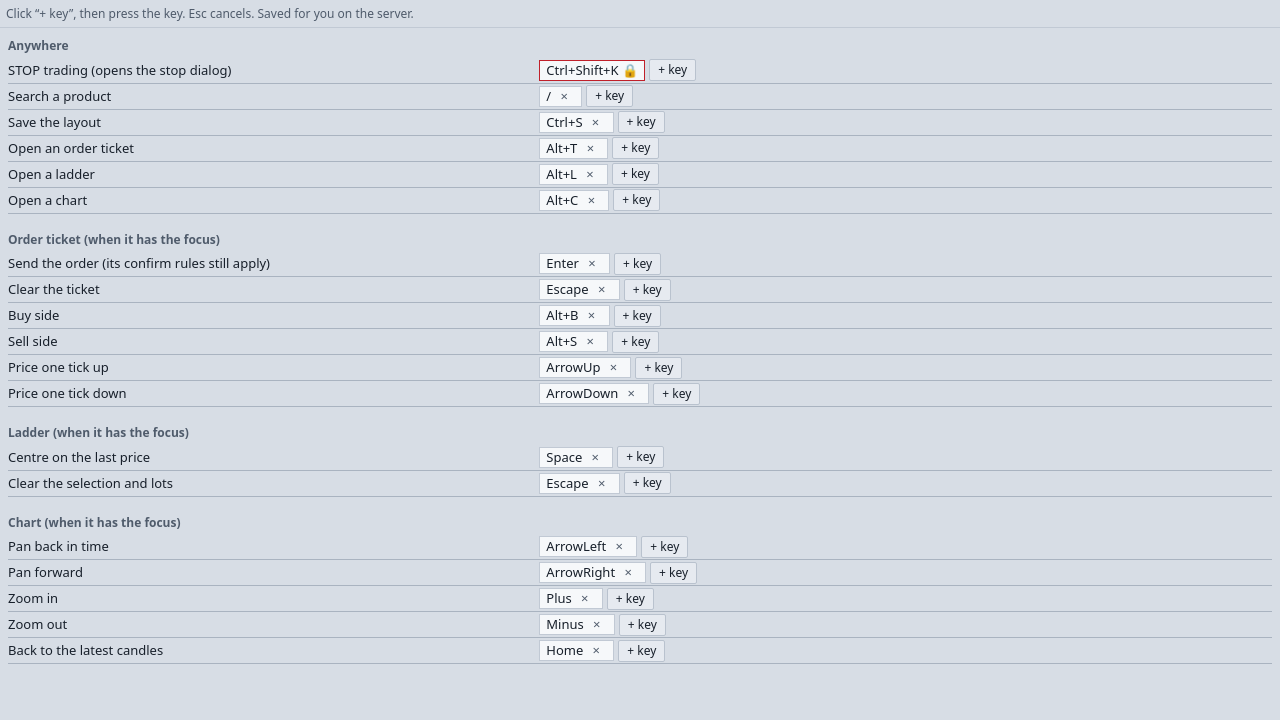
Test case: Keyboard shortcuts editor › Escape cancels choosing; a refused save keeps the old keys and says why
Click the button with aria-label "Add a key to Open a chart" at (637, 200), box x1=613 y1=189 x2=660 y2=211
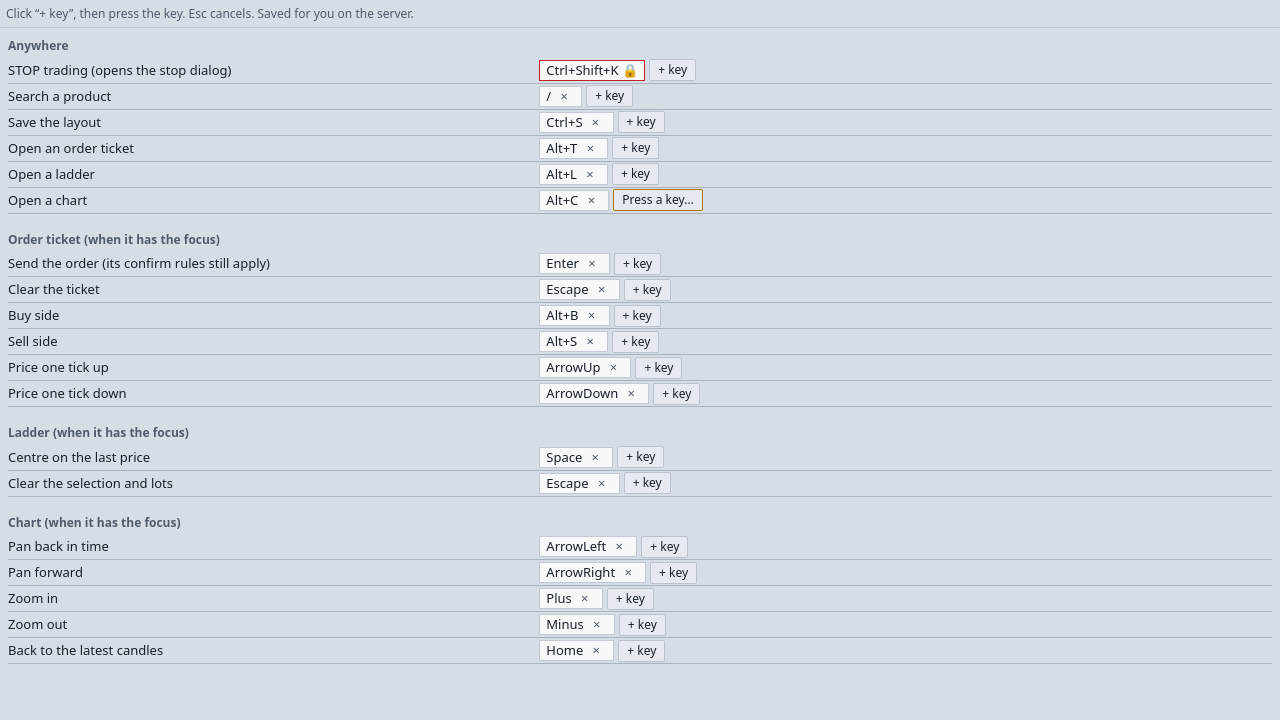
Press Escape in the button "Press a key…", box x1=613 y1=189 x2=703 y2=211
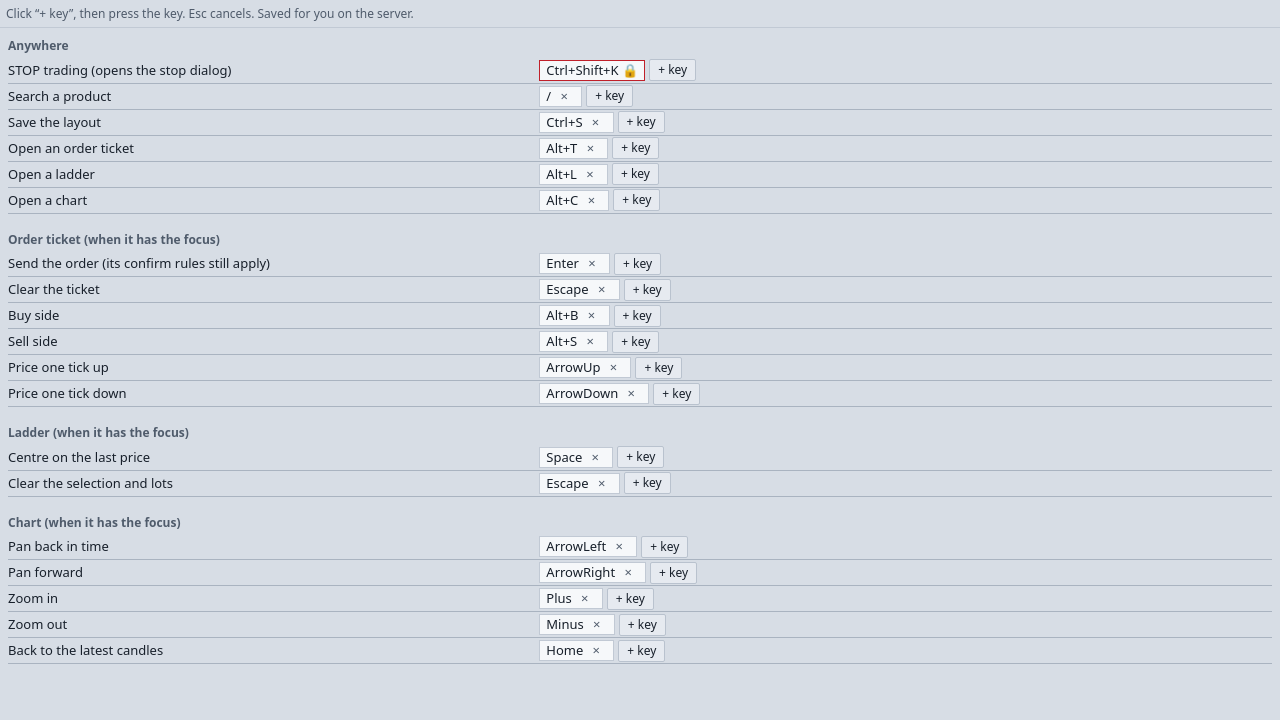
Expected: the button "Press a key…" is gone
Click the button with aria-label "Add a key to Open a chart" at (637, 200), box x1=613 y1=189 x2=660 y2=211
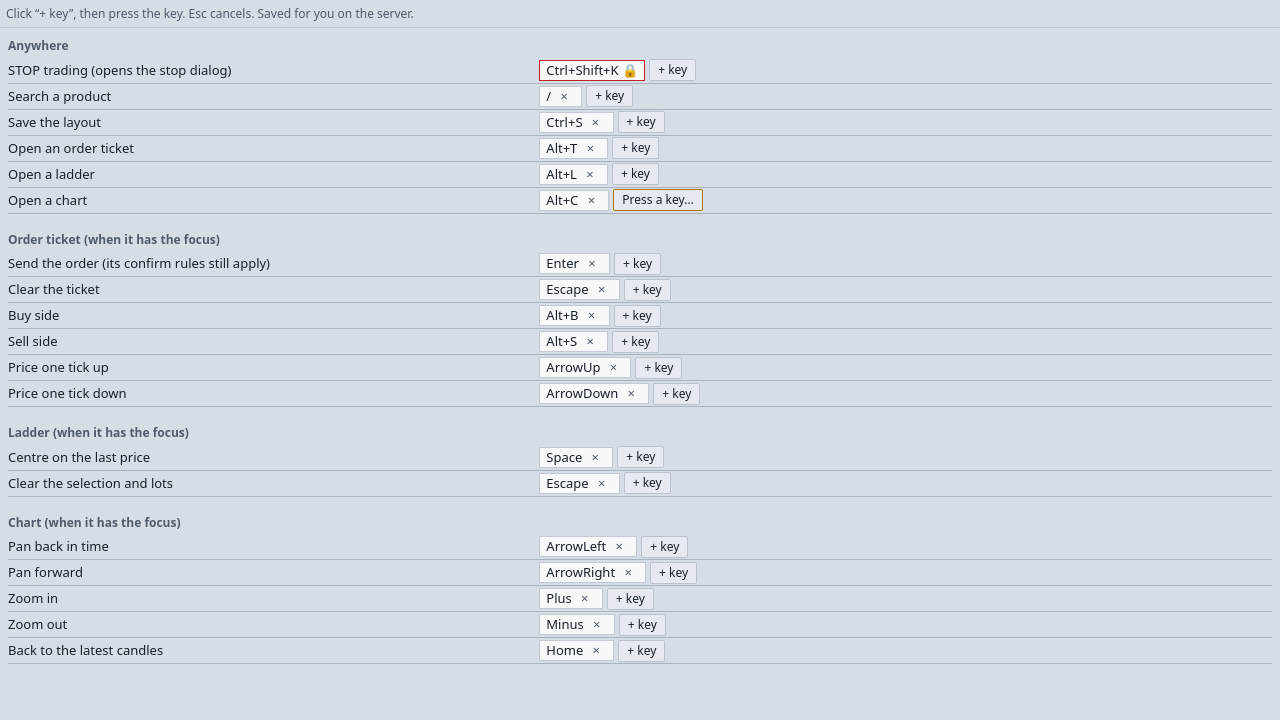
Press F2 in the button "Press a key…", box x1=613 y1=189 x2=703 y2=211
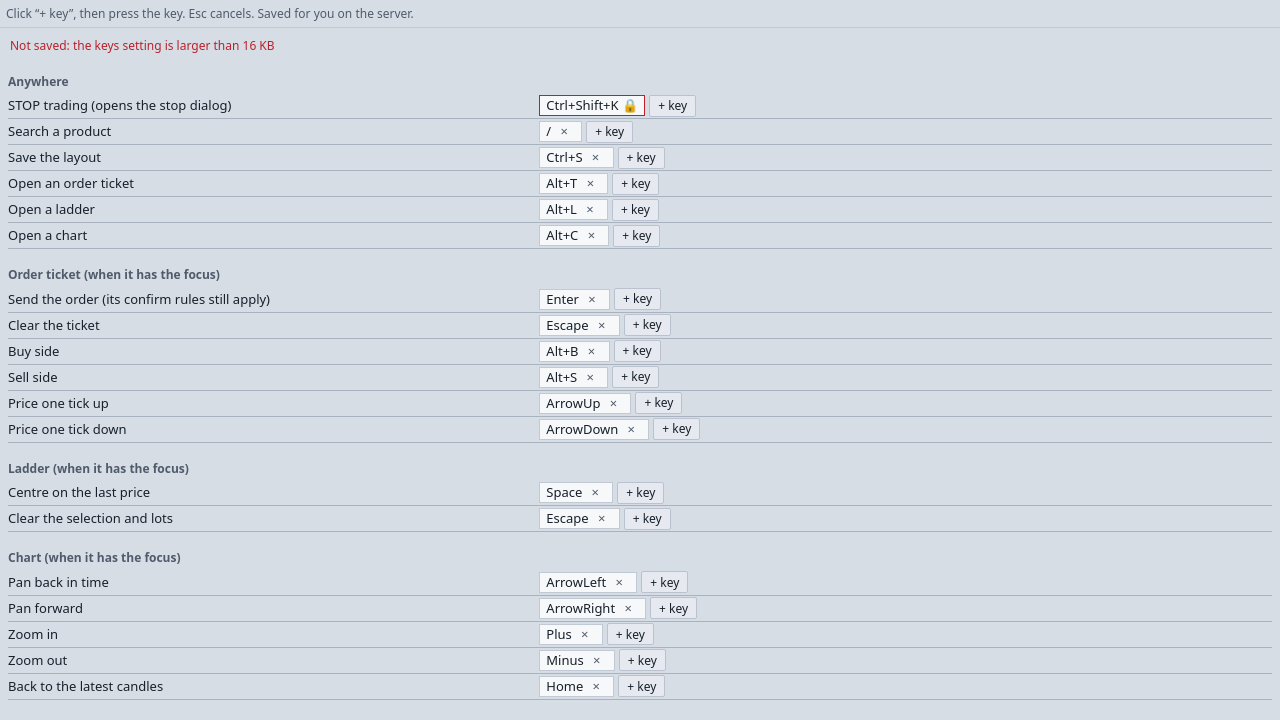
Expected: the message reads "Not saved: the keys setting is larger than 16 KB", x1=10 y1=37 x2=275 y2=54
